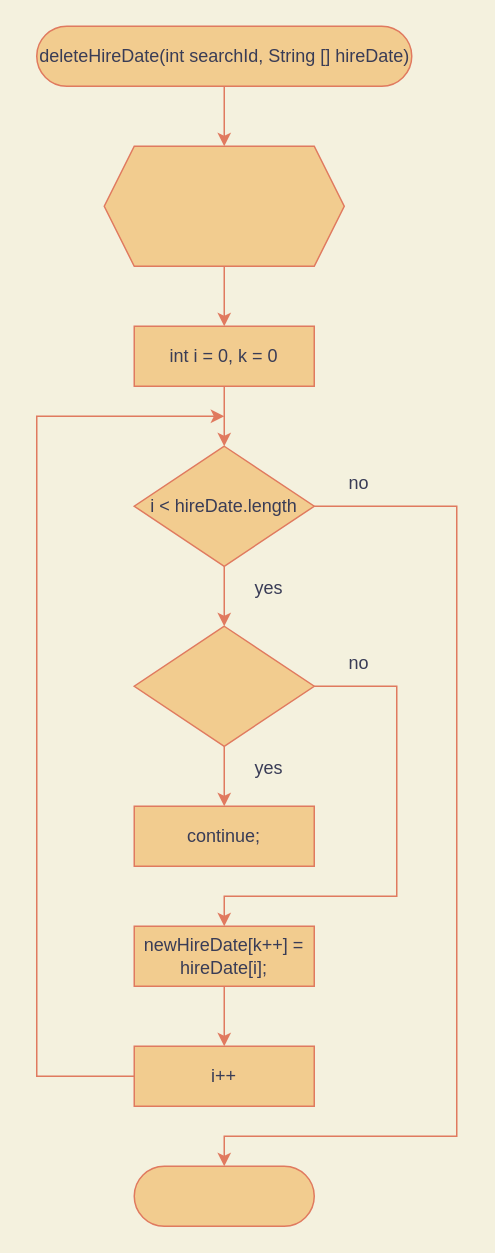
This 495x1253 diagram has some shape labels left out. The shapes that lost their labels are listed below. From the top down, each one's box as (x1, y1, x2, y2) in pixels, then its label:
(103, 145, 344, 266): String [] new HireDate = new String[hireDate.length-1];
(133, 625, 314, 746): i == (searchId-1)
(133, 1165, 314, 1226): return new HireDate
